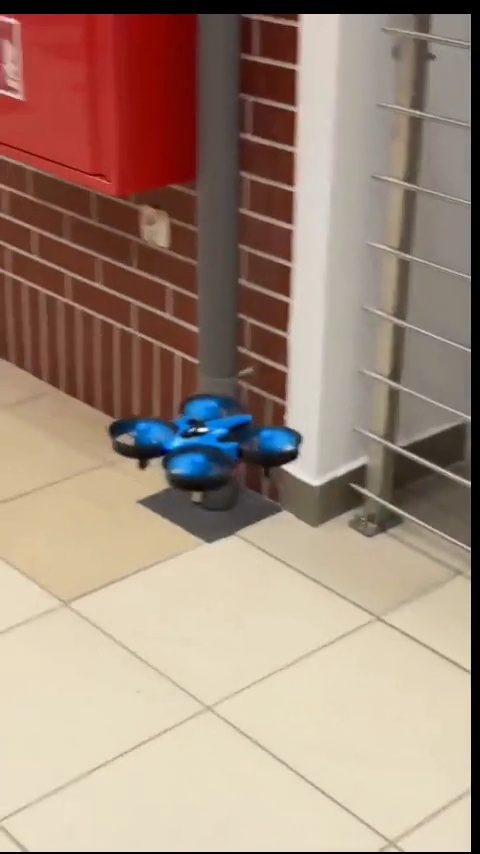drone: (106, 398, 302, 512)
